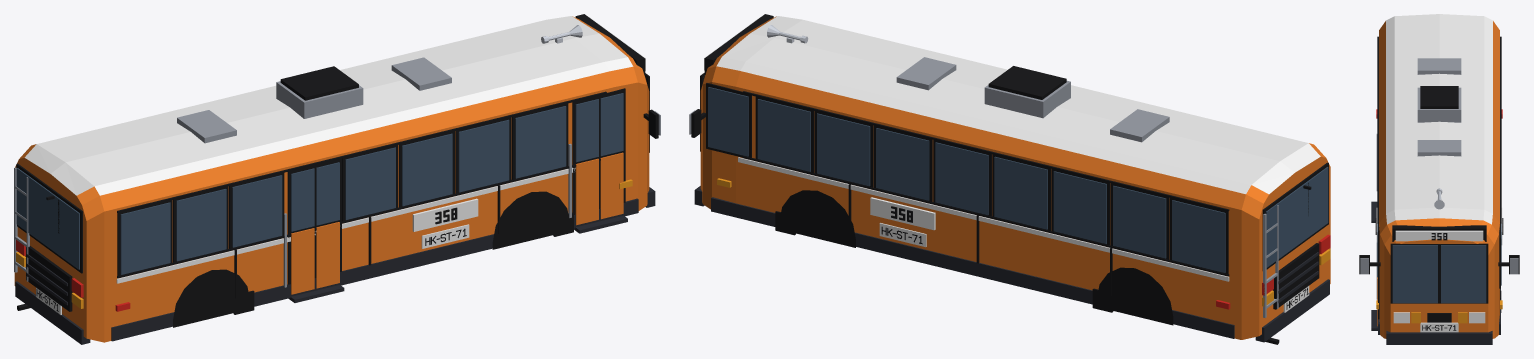
Rendered from micro_naranja_body.obj.
3 views of the same model, side by side, from view 1: azimuth 30°, elevation 25°; view 2: azimuth 150°, elevation 25°; view 3: azimuth 270°, elevation 25° (orthographic). The views are drawn at different scales.
Parts seen in each view (by area): view 1: micro_naranja_body; view 2: micro_naranja_body; view 3: micro_naranja_body.
Boxes of the visible parts, left/top/right/bottom form: micro_naranja_body: left=14, top=14, right=660, bottom=344; micro_naranja_body: left=689, top=14, right=1330, bottom=344; micro_naranja_body: left=1359, top=14, right=1519, bottom=344.
Bounding box in the file's own units: 10.8 × 3.2 × 3.32.
